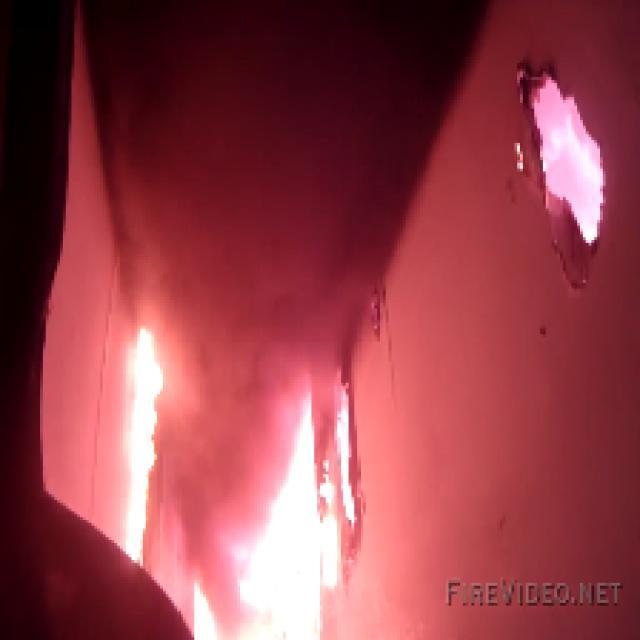Fire: (248, 414, 326, 634), (117, 331, 163, 563)
Smoke: (126, 74, 377, 297), (188, 311, 326, 400), (188, 426, 238, 583)
